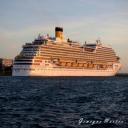cruises: (12, 25, 124, 79)
